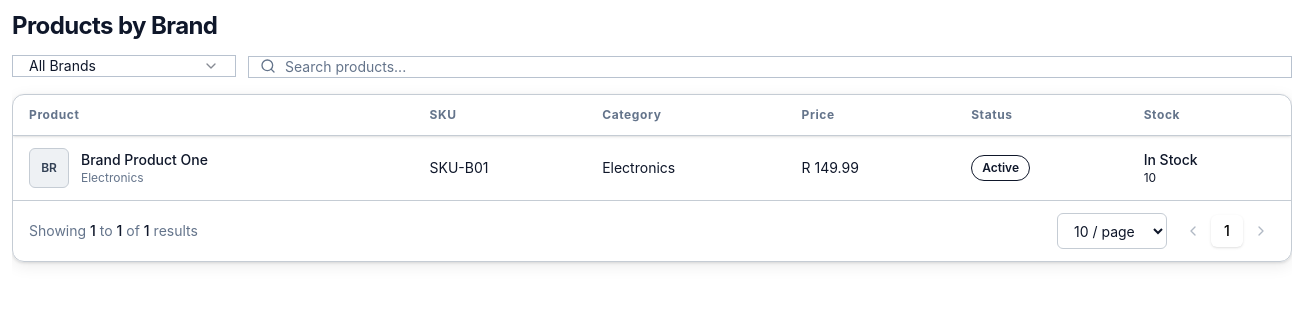
Test: ProductsByBrandPage › shows selected brand name as a label after selection
Click the button with aria-label "Filter by brand" at (124, 66), box [12,55,236,77]
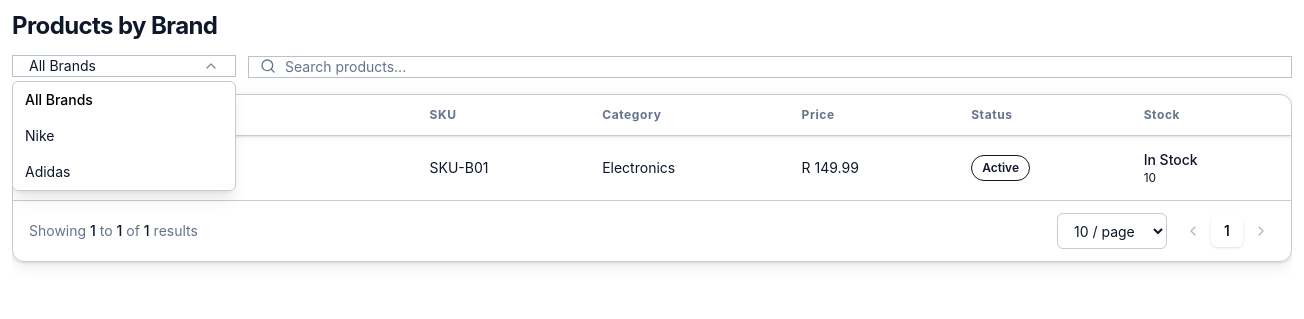
Click the option "Nike" at (40, 136), box [25,127,54,144]
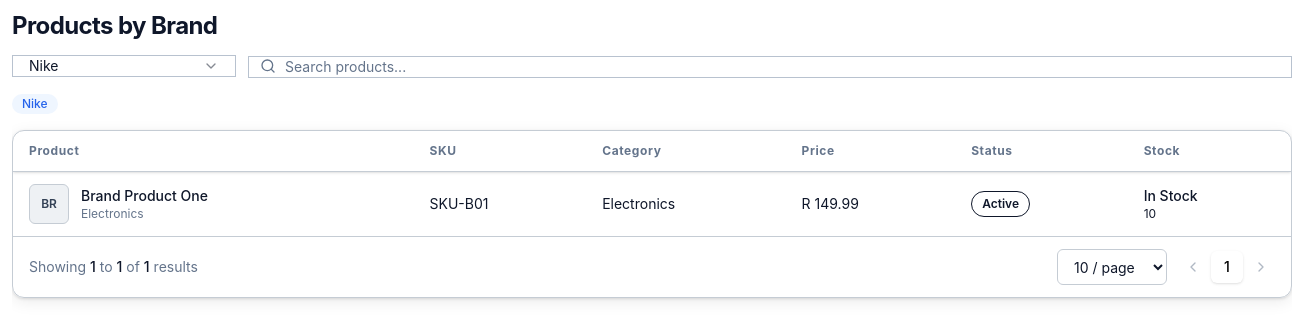
Expected: the 1st text with class "inline-flex" is shown, [12,94,58,114]
